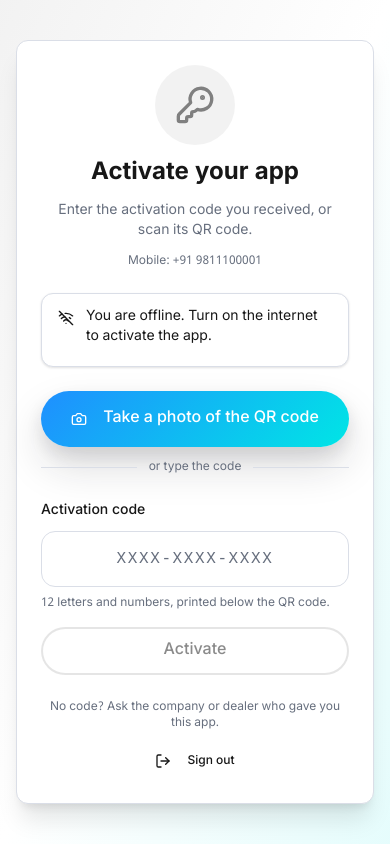
Activate › does not call the server while offline
The width and height of the screenshot is (390, 844).
Later steps or results of the test are not shown.
Expected: the button "Activate" is shown, [41,627,349,675]
Step 1. Type "7K2M-9PQR-4T8X" into the field labelled "Activation code" → [195, 559], box [41,531,349,587]
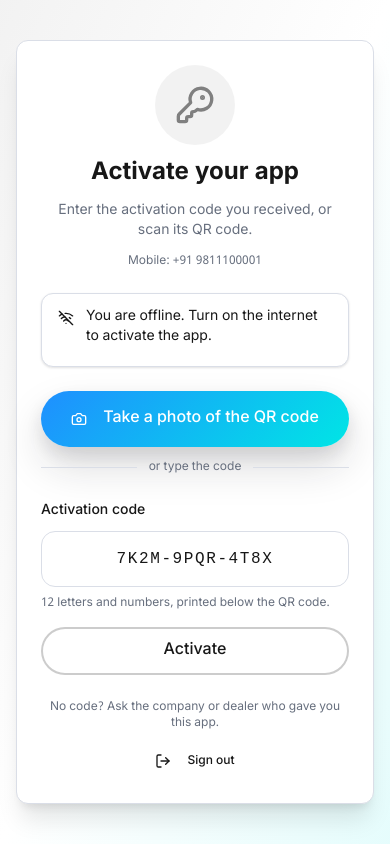
Now the button "Activate" is enabled, box [41,627,349,675]
